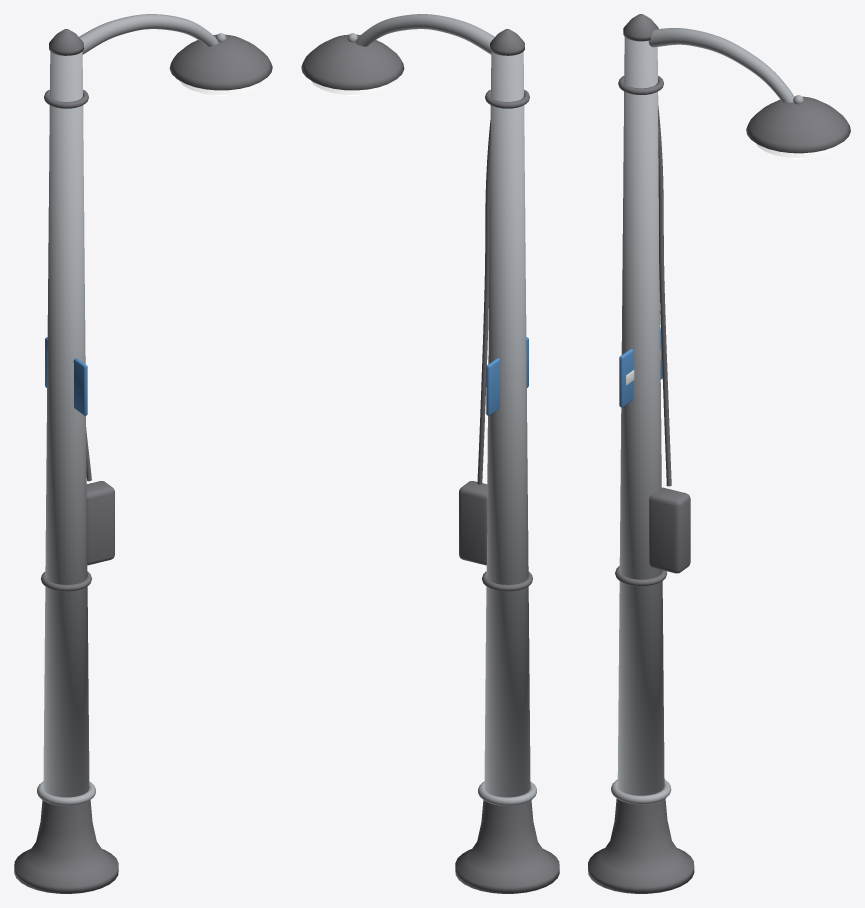
The model's file is streetlight.glb.
3 views of the same model, side by side, from view 1: azimuth 30°, elevation 25°; view 2: azimuth 150°, elevation 25°; view 3: azimuth 330°, elevation 25° (orthographic).
Visible parts, largest first — view 1: Pole, Base, LampShade, CtrlBox, Arm, SignPlate, TopCap, Torus; view 2: Pole, Base, LampShade, CtrlBox, Arm, Cable, SignPlate, TopCap, Torus; view 3: Pole, Base, LampShade, CtrlBox, Arm, Cable, SignPlate, TopCap, Torus.
Boxes of the visible parts, x1=… form: Pole: x1=43, y1=51, x2=89, y2=797; Base: x1=14, y1=800, x2=118, y2=893; LampShade: x1=169, y1=34, x2=272, y2=90; CtrlBox: x1=86, y1=481, x2=114, y2=565; Arm: x1=79, y1=14, x2=218, y2=54; SignPlate: x1=45, y1=337, x2=87, y2=415; TopCap: x1=49, y1=29, x2=83, y2=55; Torus: x1=37, y1=781, x2=95, y2=805; Pole: x1=484, y1=51, x2=530, y2=797; Base: x1=455, y1=800, x2=559, y2=893; LampShade: x1=301, y1=34, x2=404, y2=90; CtrlBox: x1=459, y1=481, x2=487, y2=565; Arm: x1=355, y1=14, x2=494, y2=54; Cable: x1=477, y1=119, x2=490, y2=484; SignPlate: x1=486, y1=337, x2=528, y2=415; TopCap: x1=490, y1=29, x2=524, y2=55; Torus: x1=478, y1=781, x2=536, y2=805; Pole: x1=617, y1=37, x2=664, y2=795; Base: x1=588, y1=798, x2=694, y2=893; LampShade: x1=746, y1=96, x2=850, y2=153; CtrlBox: x1=649, y1=487, x2=690, y2=573; Arm: x1=648, y1=28, x2=794, y2=102; Cable: x1=658, y1=105, x2=671, y2=486; SignPlate: x1=619, y1=327, x2=662, y2=407; TopCap: x1=623, y1=14, x2=658, y2=41; Torus: x1=611, y1=779, x2=671, y2=804.
Size of the model in its own units: 1.83 by 6.04 by 0.68.
